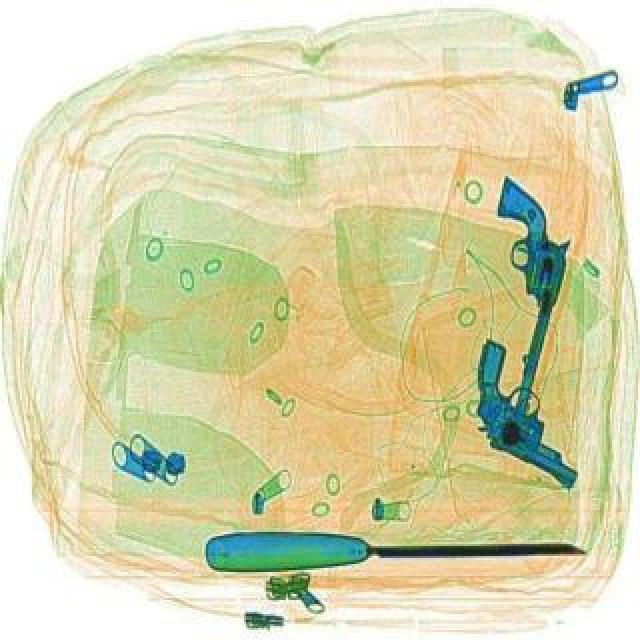gun: (430, 334, 622, 490), (458, 172, 582, 412)
knife: (204, 522, 588, 568)
